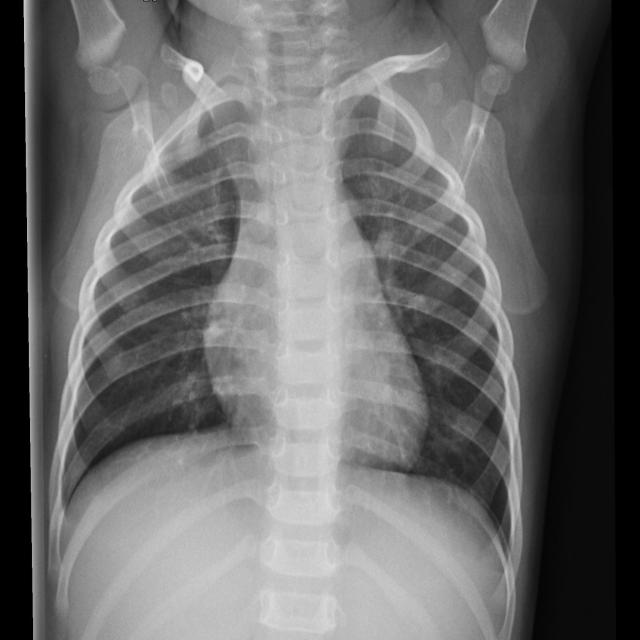no-pneumonia: (53, 101, 252, 520), (336, 88, 521, 534)
